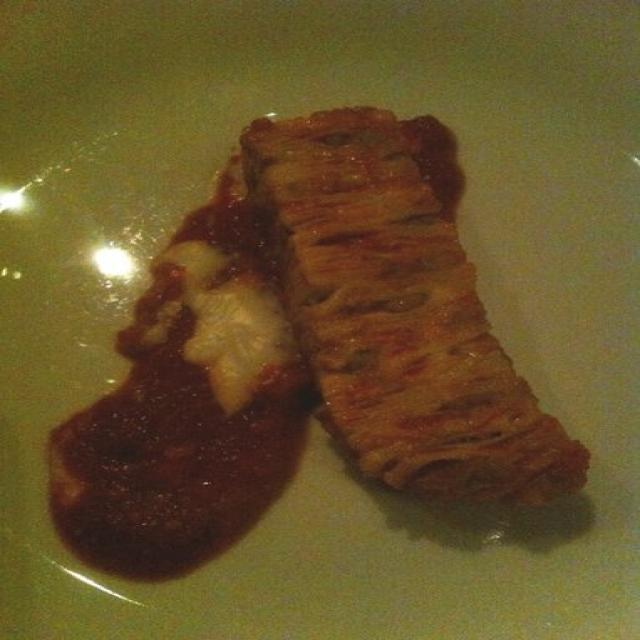Lasagna: (97, 97, 579, 588)
